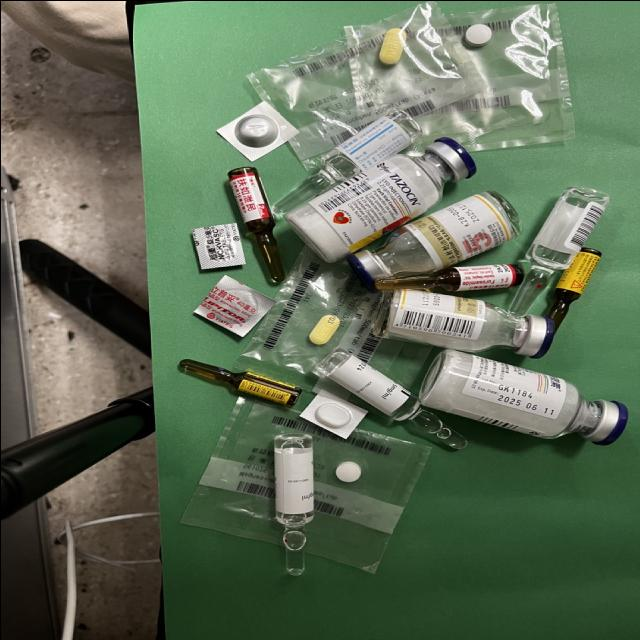Ampoules: (271, 110, 419, 218), (316, 349, 466, 449), (508, 186, 608, 314), (227, 166, 283, 282), (178, 358, 300, 406), (273, 433, 312, 575), (364, 263, 522, 290), (547, 247, 599, 329)
Vials: (285, 136, 475, 261), (416, 348, 627, 444), (345, 190, 520, 289), (369, 289, 554, 357)
